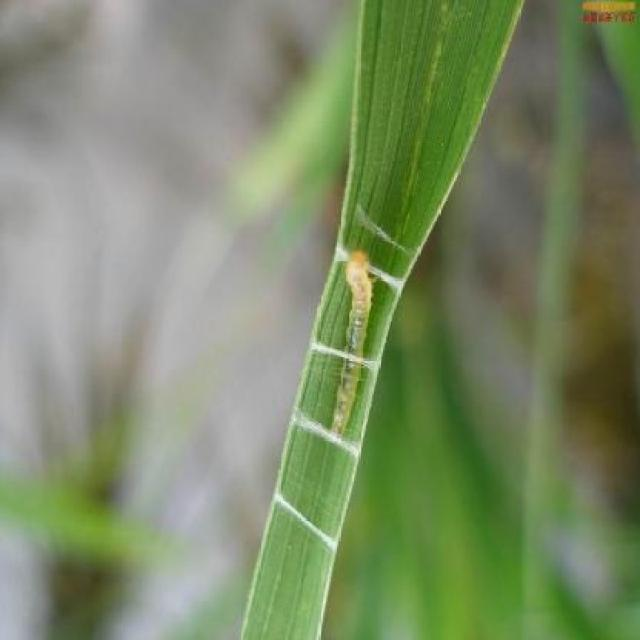leaf-folder: (320, 230, 383, 452)
